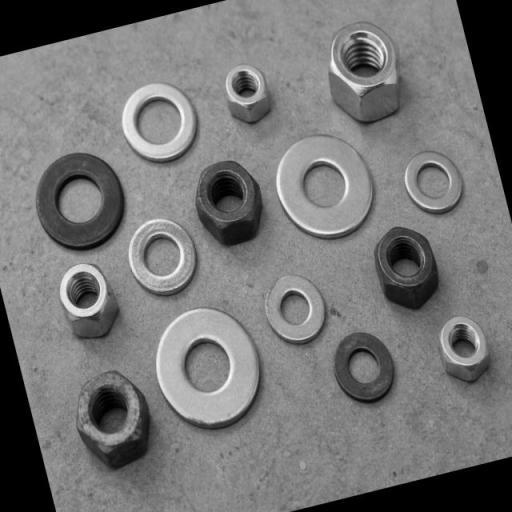Nut: (75, 370, 151, 470), (328, 21, 401, 123), (195, 159, 263, 247), (374, 226, 440, 310), (58, 263, 120, 340), (438, 315, 490, 383), (225, 65, 273, 124)
Washer: (154, 307, 260, 430), (275, 134, 374, 240), (35, 152, 124, 250), (121, 83, 198, 162), (128, 218, 197, 296), (333, 331, 395, 403), (264, 274, 326, 344), (403, 150, 464, 214)
